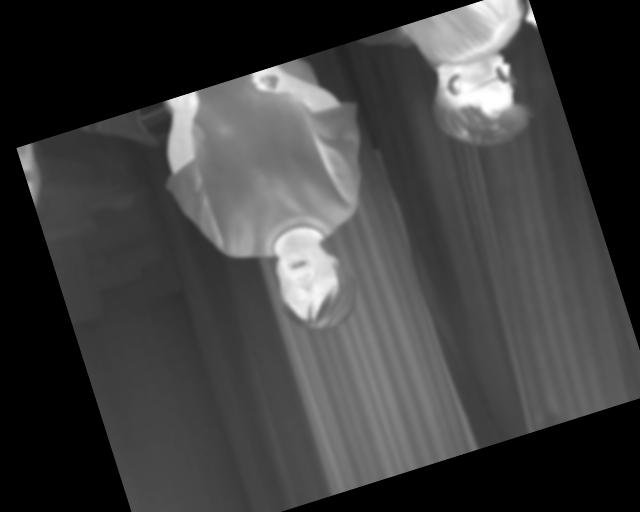face: (263, 228, 366, 340)
